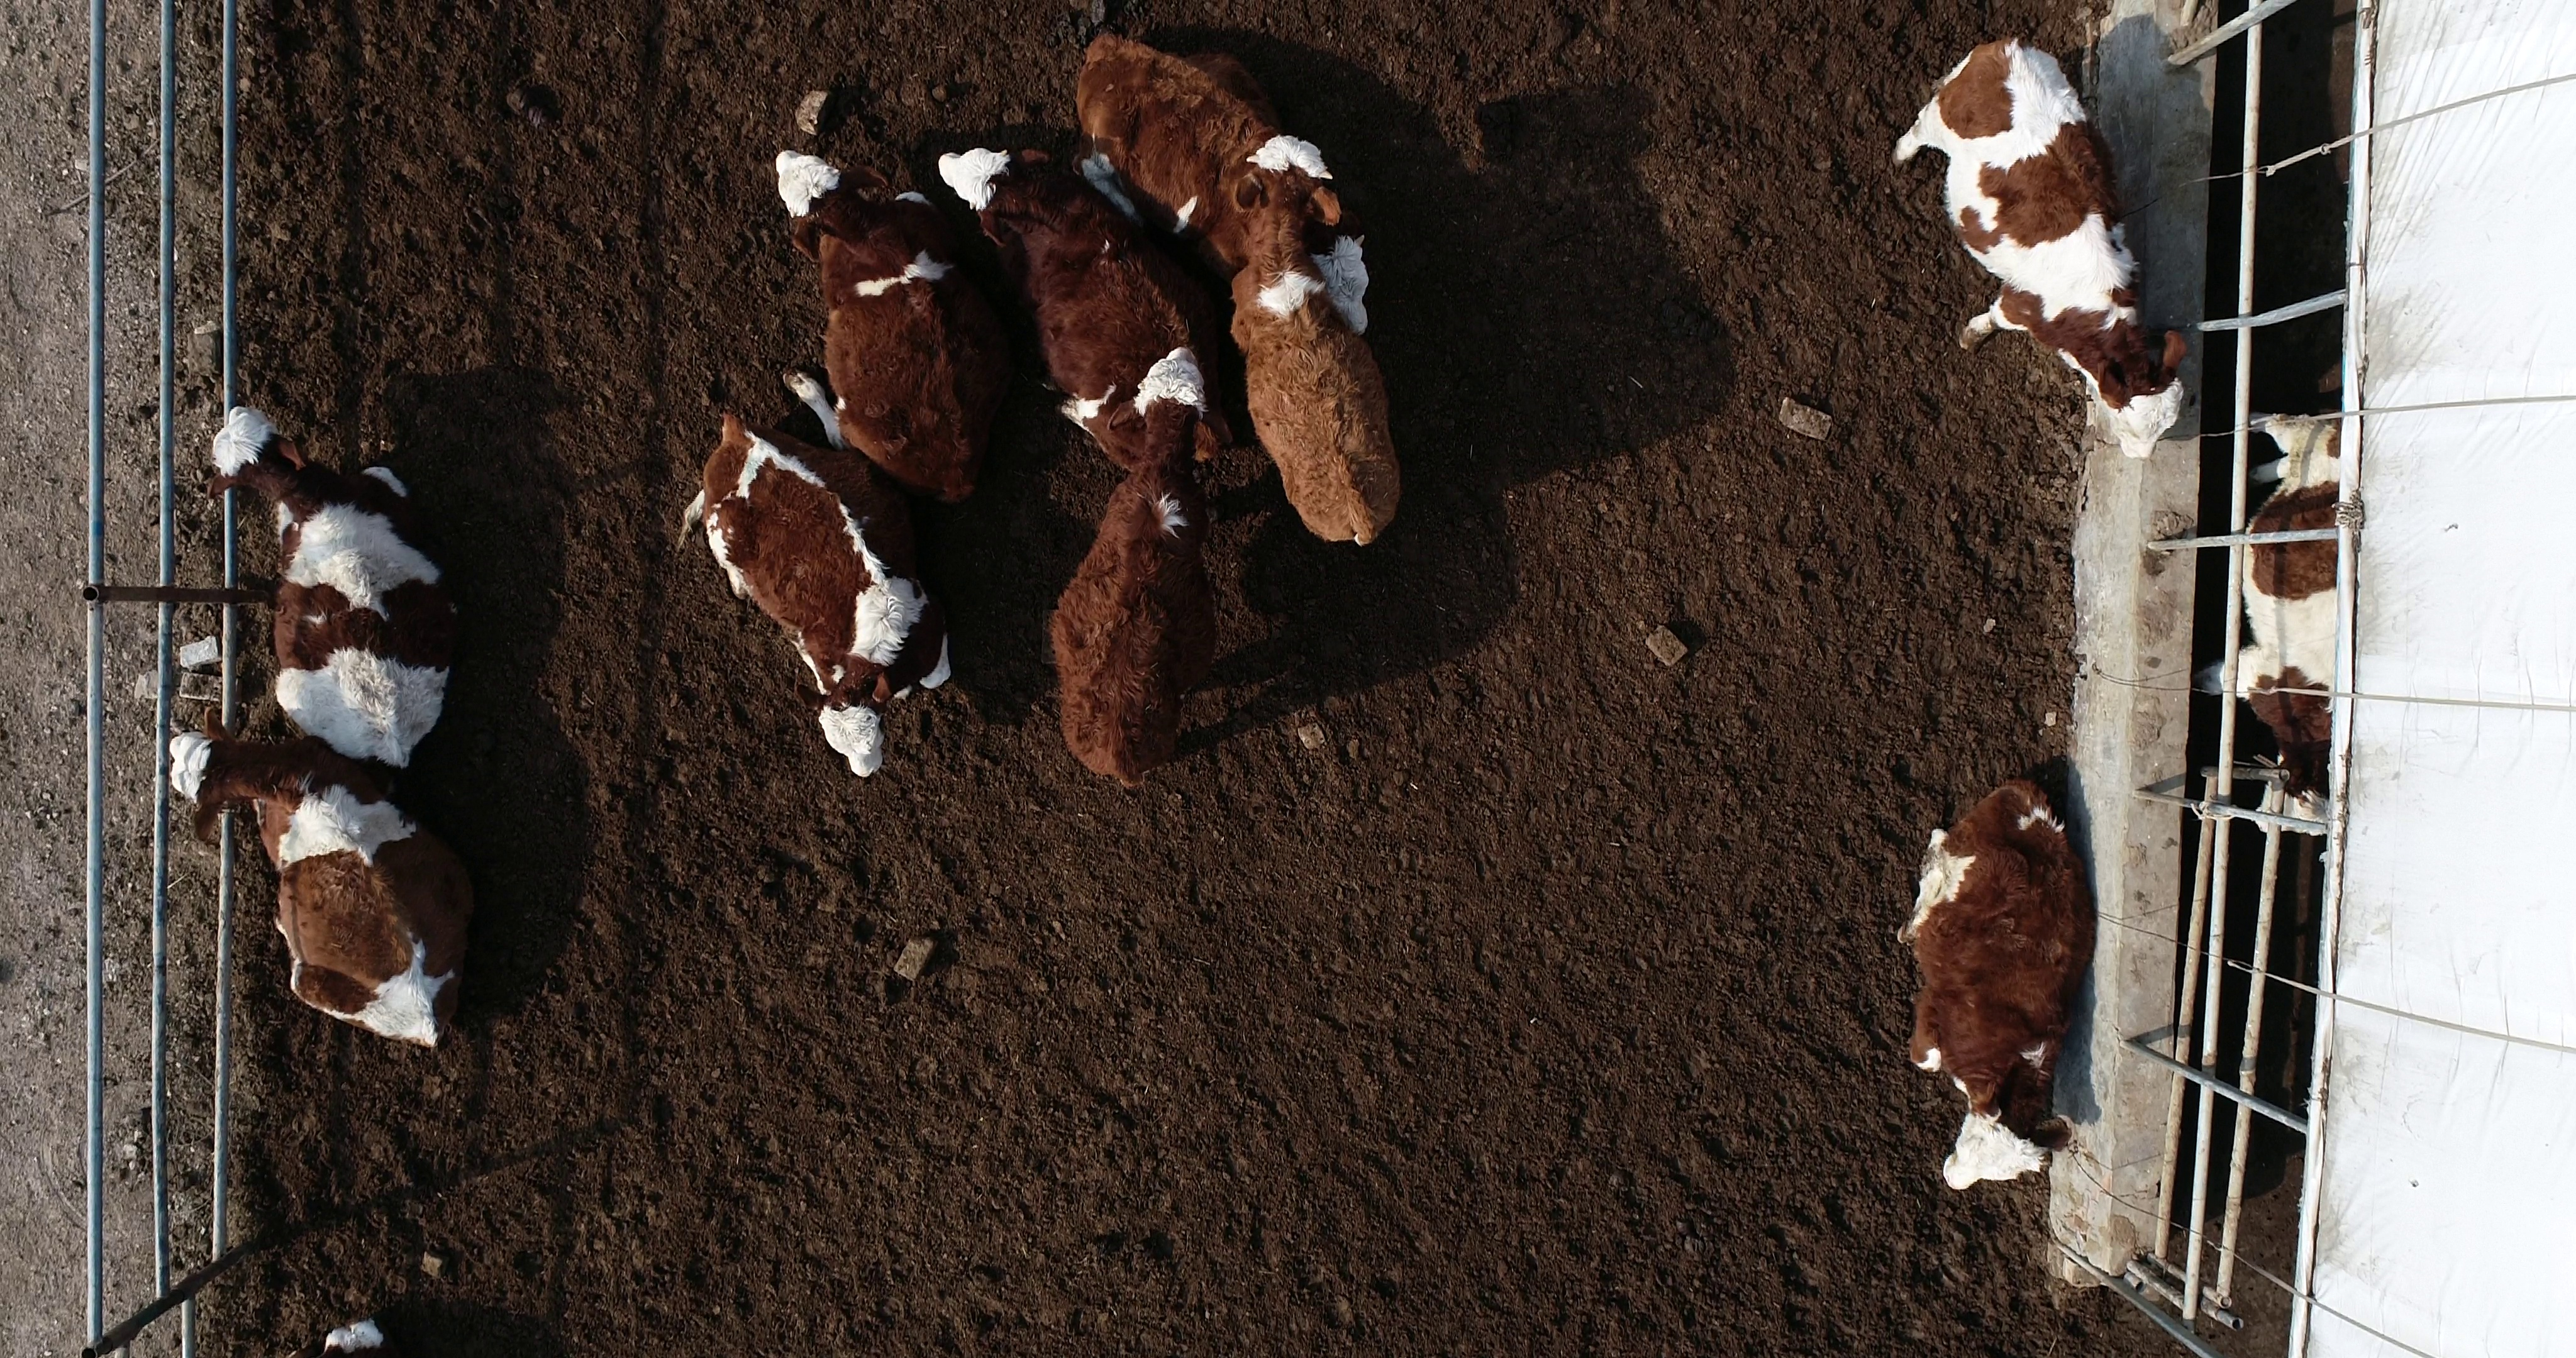cattle: (1883, 32, 2189, 463), (160, 722, 489, 1060), (671, 404, 959, 787), (199, 400, 475, 765), (763, 143, 1010, 503), (1041, 342, 1233, 799), (1222, 123, 1409, 555)
